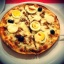pizza: (1, 3, 58, 55)
